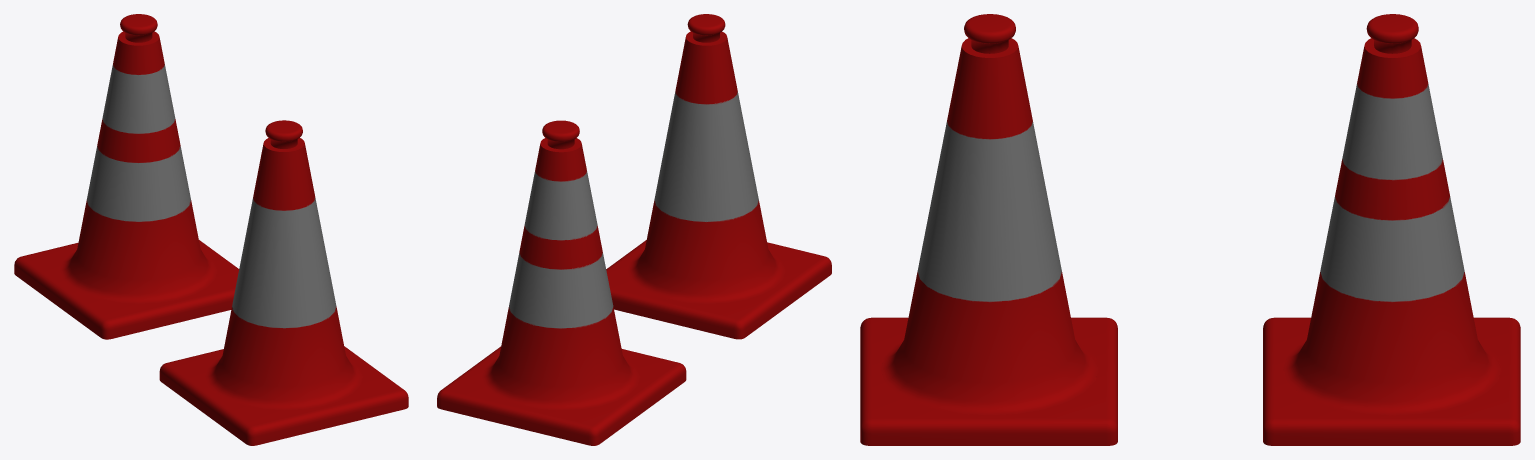
The model's file is obstacle_cone.glb.
3 renders of one model, left to right at view 1: azimuth 30°, elevation 25°; view 2: azimuth 150°, elevation 25°; view 3: azimuth 270°, elevation 25°, orthographic. The views are drawn at different scales.
Visible parts, largest first — view 1: cone 1_0, cone 2_1; view 2: cone 2_1, cone 1_0; view 3: cone 2_1, cone 1_0.
Part boxes in pixels (x1,y1,x2,y2): cone 1_0: (159, 120, 408, 445); cone 2_1: (14, 14, 239, 339); cone 2_1: (437, 120, 686, 445); cone 1_0: (606, 14, 831, 339); cone 2_1: (1263, 14, 1520, 445); cone 1_0: (860, 14, 1117, 445).
Size of the model in its own units: 0.3406 by 0.5372 by 0.8726.
Materials: 2 (2 with a texture image).
